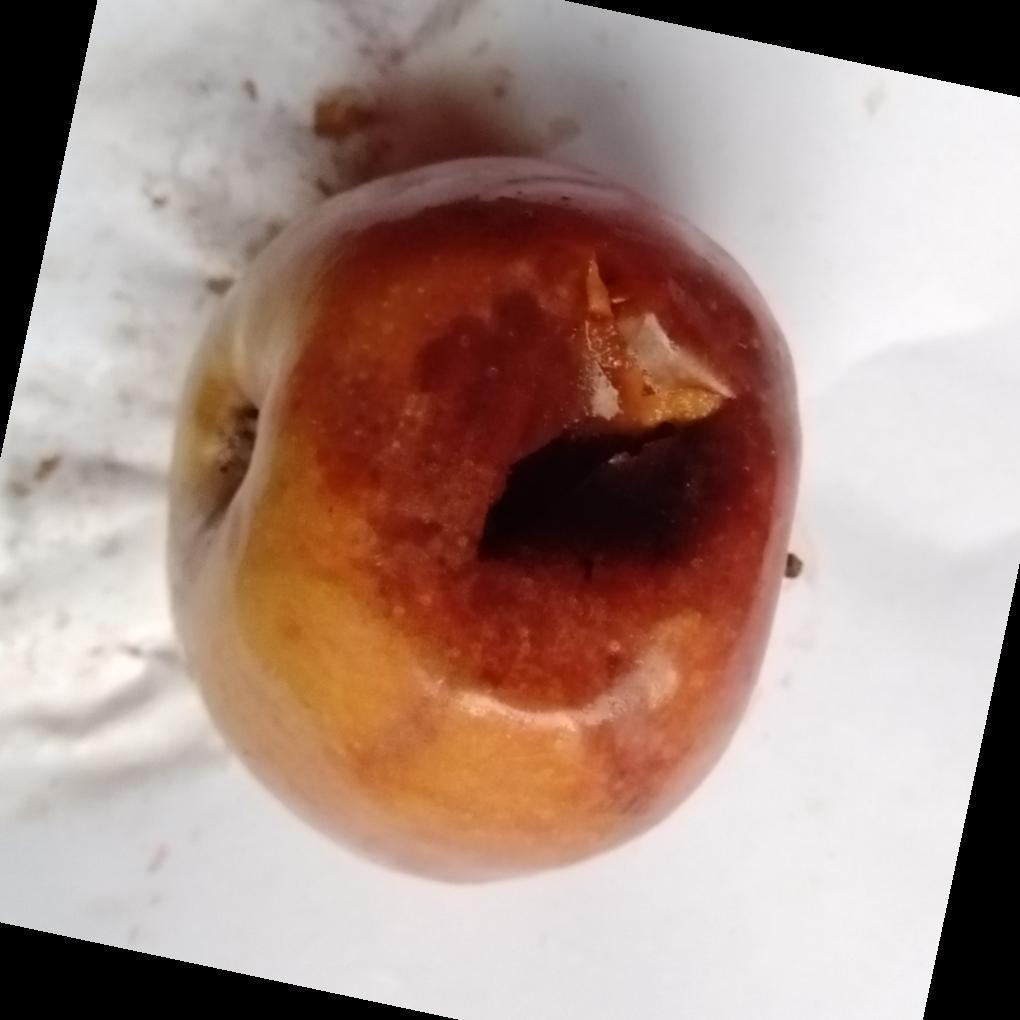FreshOrange: (162, 154, 803, 891)
